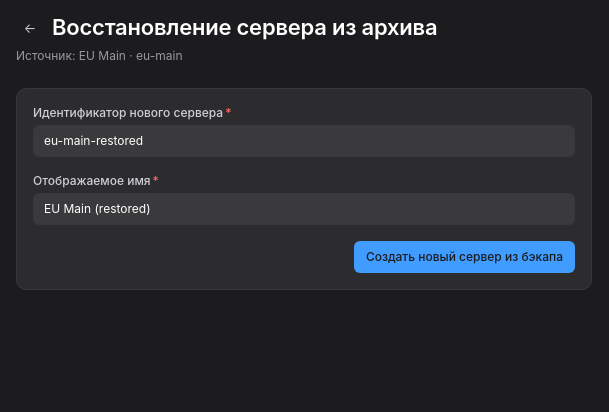
Test: #662 409 restore errors are distinguished by response body › external_server: explains the archive is external and must be re-attached
Expected: the field labelled "Идентификатор нового сервера*" is shown, [33,125,575,157]
Click the button "Создать новый сервер из бэкапа". click: (464, 257)
box: [354,241,575,273]
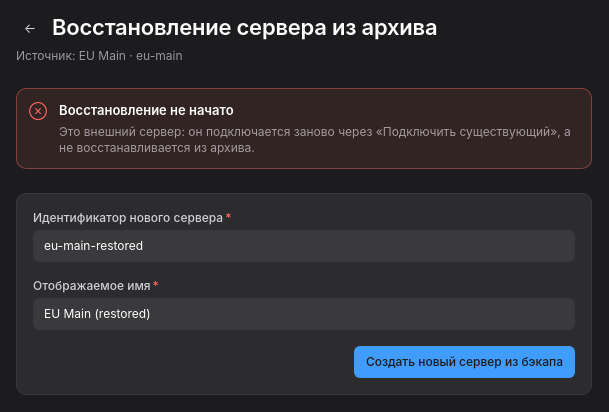
Result: the message shows "внешний сервер" at [59,124,571,155]
